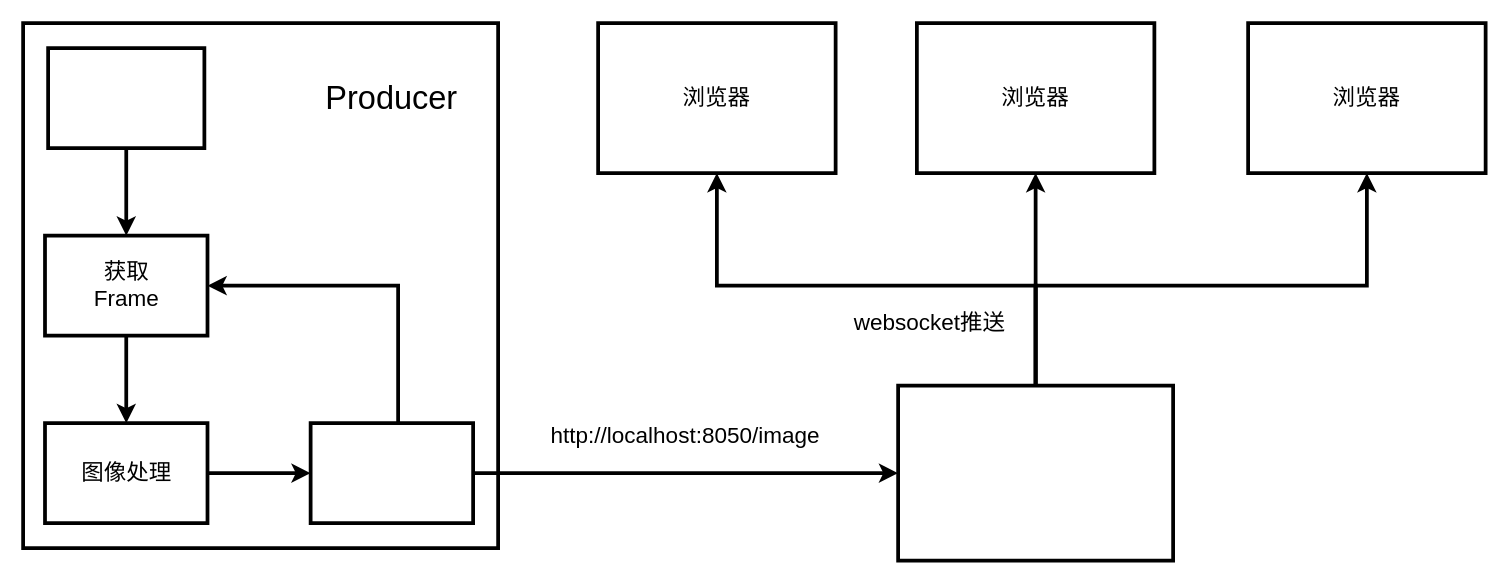
Some shapes in this 1509 by 584 pixel diagram are drawn without their labels. The centre of each missing label's shape, as x and y in pixels:
jpg压缩: the point at 391,472
webserver: the point at 1035,472
视频输入: the point at 126,97
